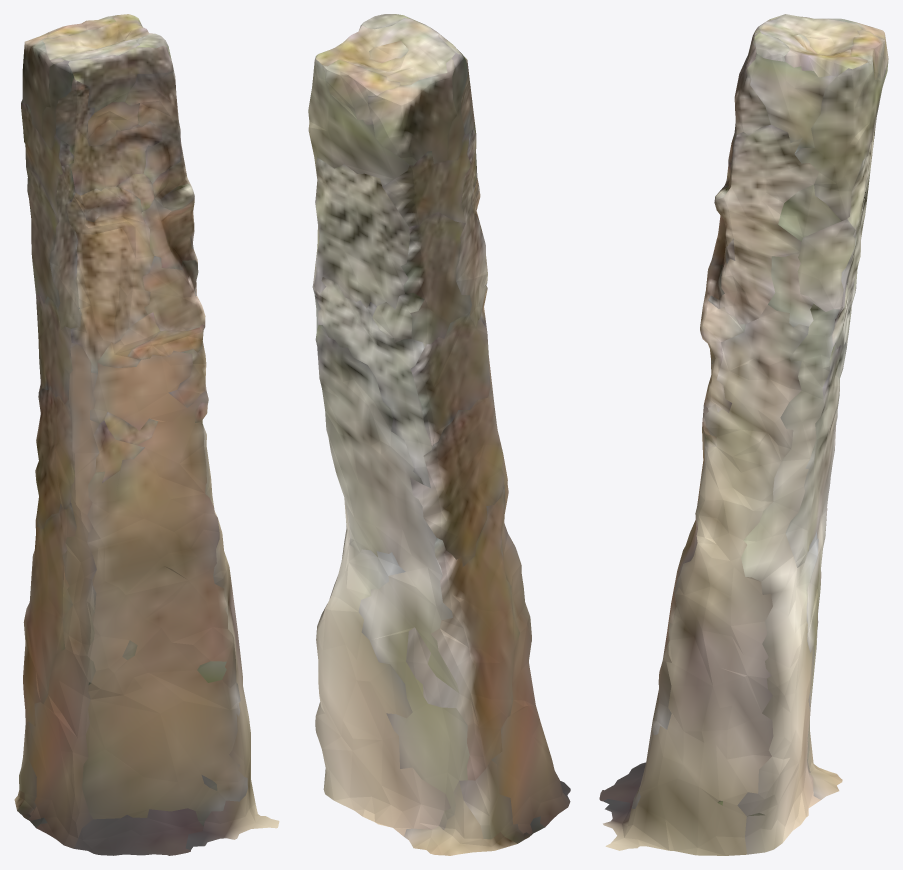
The model's file is tanit-stela.glb.
3 views of the same model, side by side, from view 1: azimuth 30°, elevation 25°; view 2: azimuth 150°, elevation 25°; view 3: azimuth 270°, elevation 25° (orthographic). The views are drawn at different scales.
Visible parts, largest first — view 1: Object_2; view 2: Object_2; view 3: Object_2.
Part boxes in pixels (left/top/right/bottom): Object_2: left=14, top=14, right=279, bottom=855; Object_2: left=308, top=14, right=570, bottom=855; Object_2: left=599, top=14, right=888, bottom=855.
Size of the model in its own units: 0.281 by 0.9799 by 0.329.
Materials: 1 (1 with a texture image).
